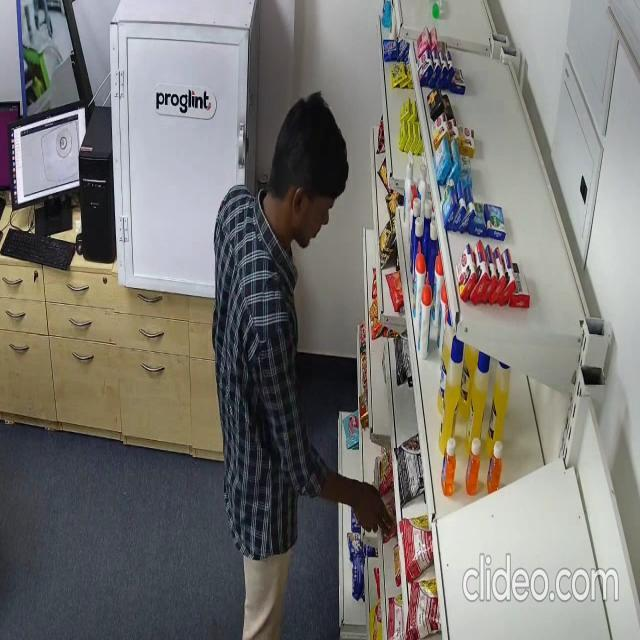normal: (212, 90, 393, 640)
